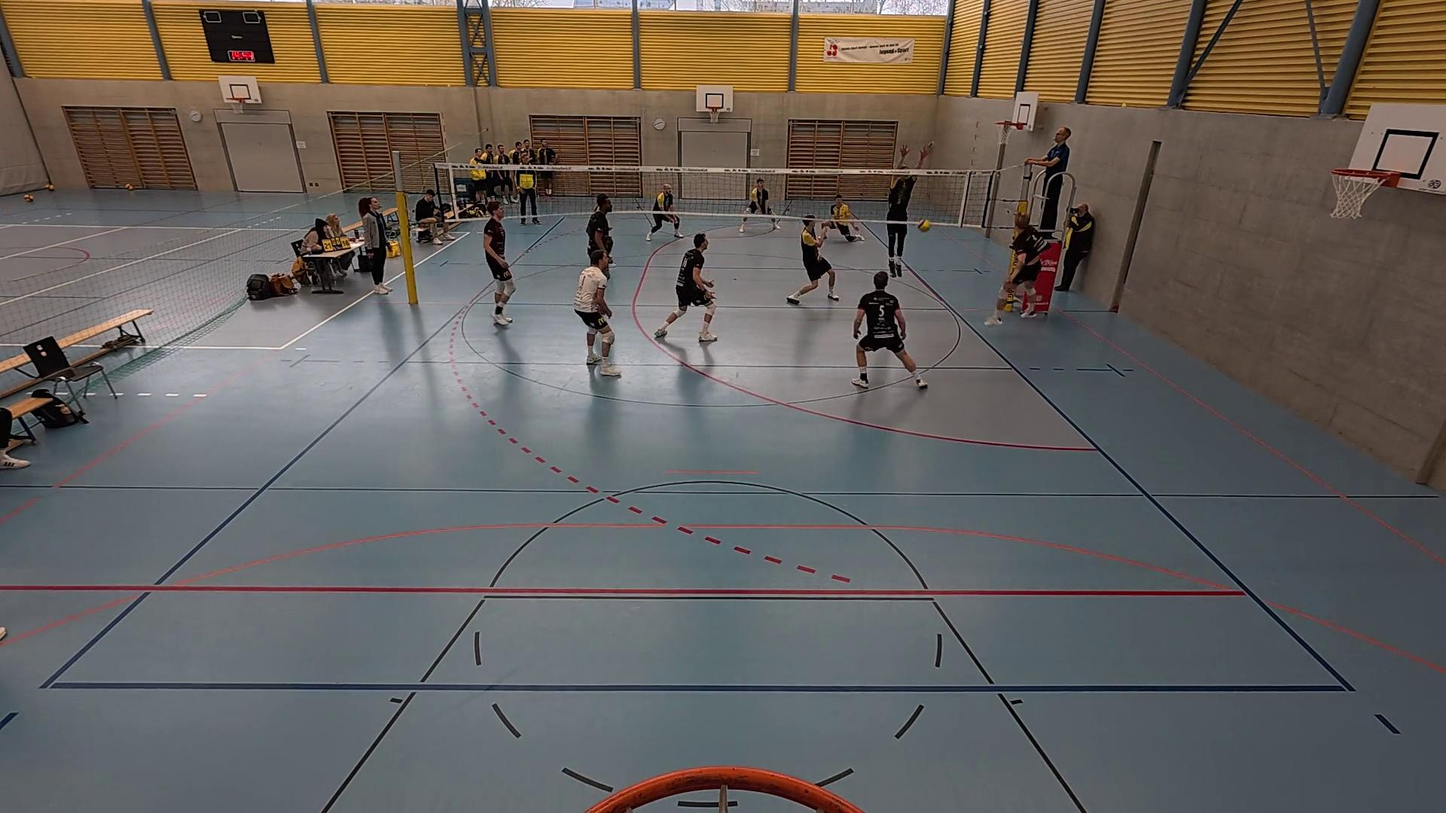Block: (880, 140, 933, 280)
Player: (853, 270, 928, 390), (975, 205, 1044, 332), (654, 233, 717, 343), (575, 250, 620, 376), (786, 215, 841, 305), (482, 202, 515, 327), (585, 194, 614, 276), (645, 181, 682, 245), (737, 179, 779, 234), (825, 190, 860, 244)
ball: (915, 216, 932, 233)
